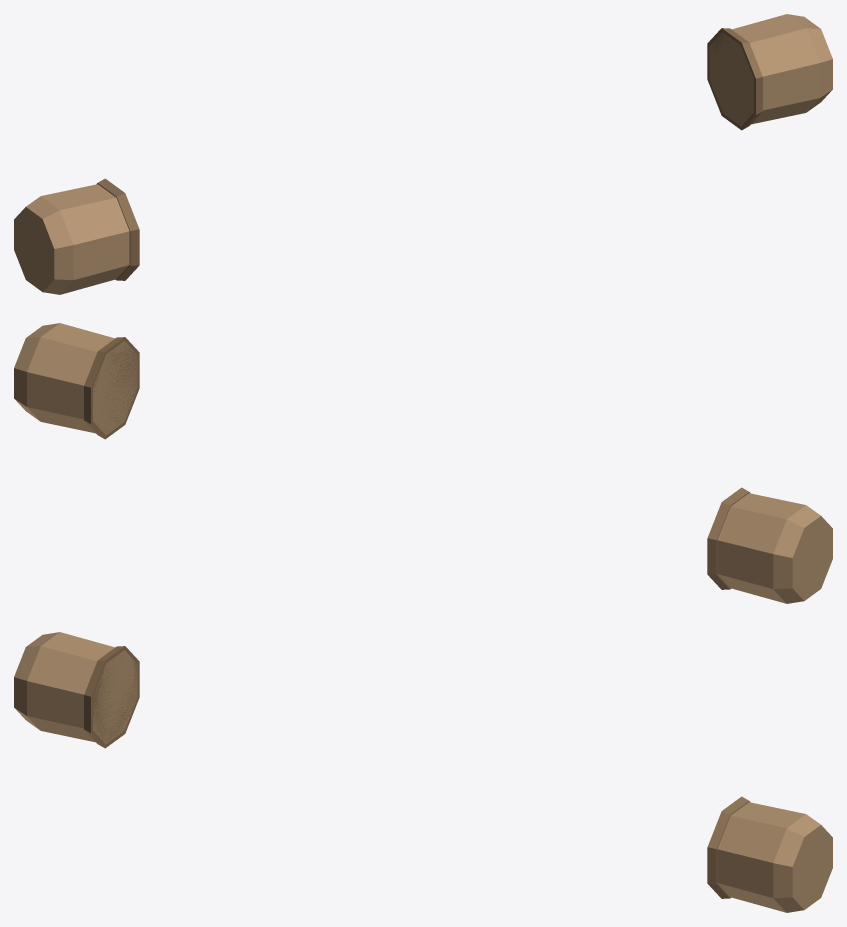
Rendered from glove_leather.glb.
3 views of the same model, one above another, from view 1: azimuth 30°, elevation 25°; view 2: azimuth 150°, elevation 25°; view 3: azimuth 330°, elevation 25° (orthographic).
Visible parts, largest first — view 1: Fist1L, Fist1R; view 2: Fist1L, Fist1R; view 3: Fist1L, Fist1R.
Boxes of the visible parts, x1,y1,x2,y2 form: Fist1L: (707,14,832,130); Fist1R: (14,178,139,294); Fist1L: (14,323,139,439); Fist1R: (707,487,832,603); Fist1L: (707,796,832,912); Fist1R: (14,632,139,748).
Size of the model in its own units: 2.88 by 0.3104 by 0.3104.
